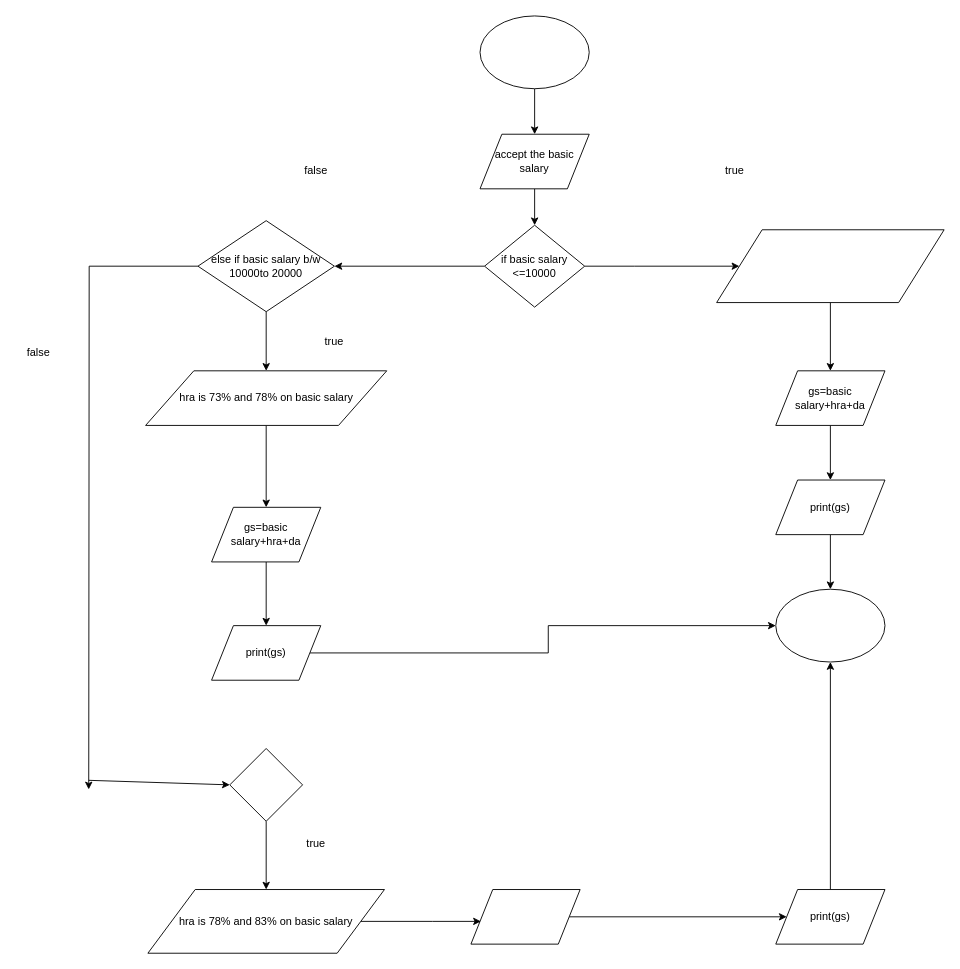
The diagram is 960 pixels wide and 969 high, and some of its shapes have lost their labels. Each missing label, with the centre of its shape:
"else basic salary>20000" goes at (266,784).
"gs=basic sa;ary+hra+da" goes at (525,916).
"hra is 70% and da is 75% on basic salary" goes at (830,266).
"start" goes at (534,52).
"stop" goes at (830,625).
